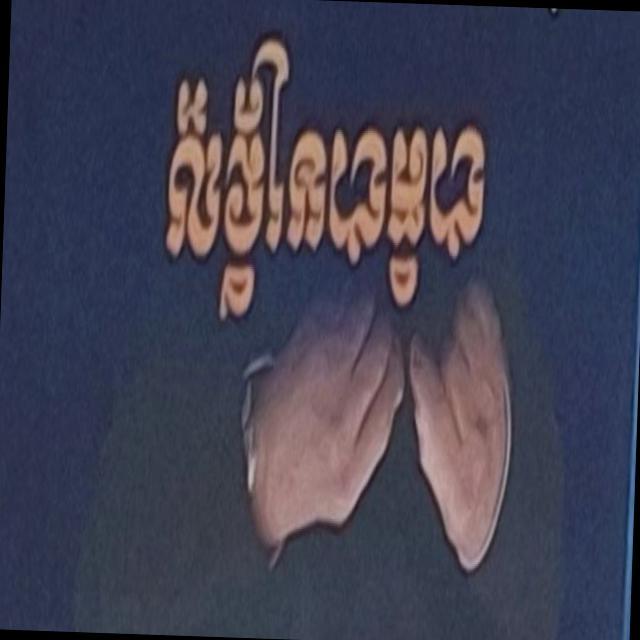Yolov11kh: (109, 6, 519, 358)
